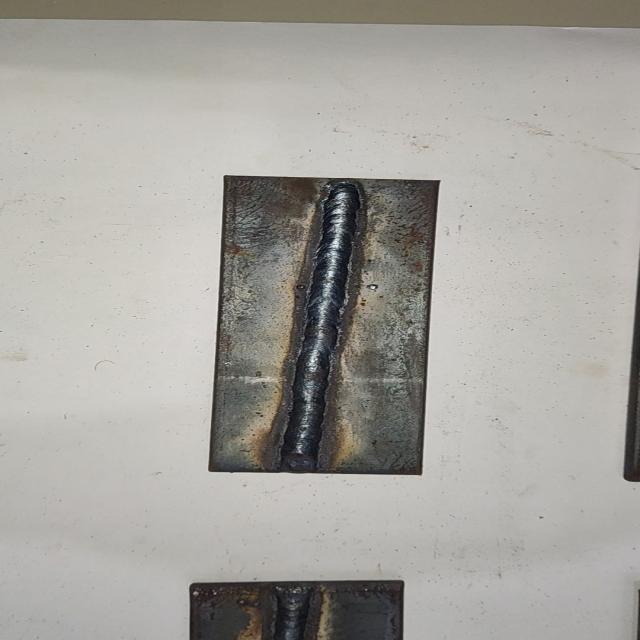Good Weld: (285, 182, 363, 466), (273, 583, 313, 640)
